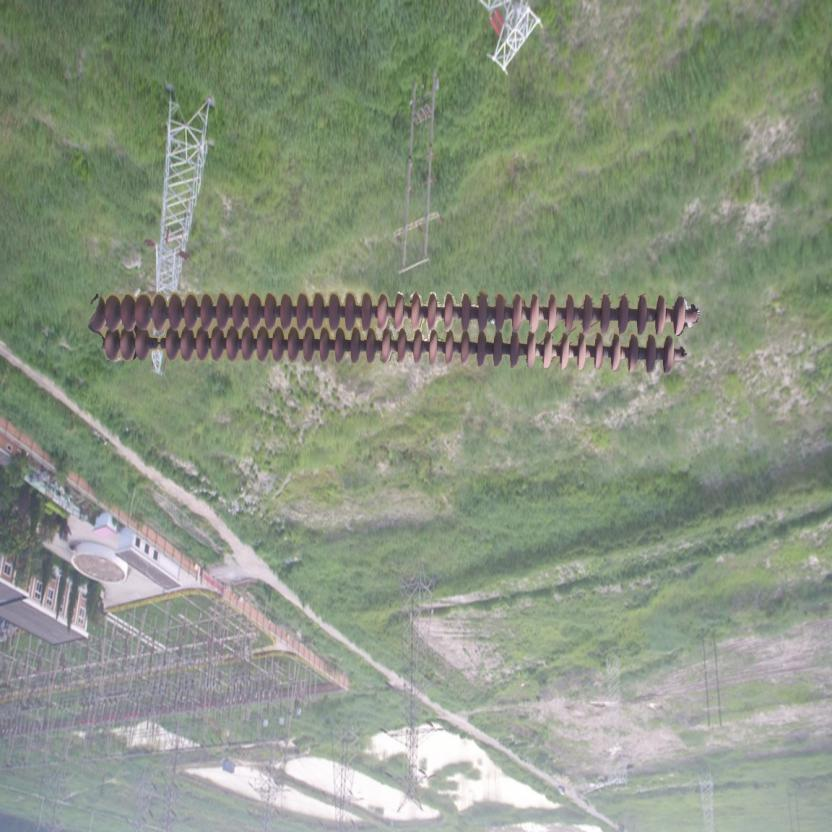defect: (130, 326, 180, 370)
